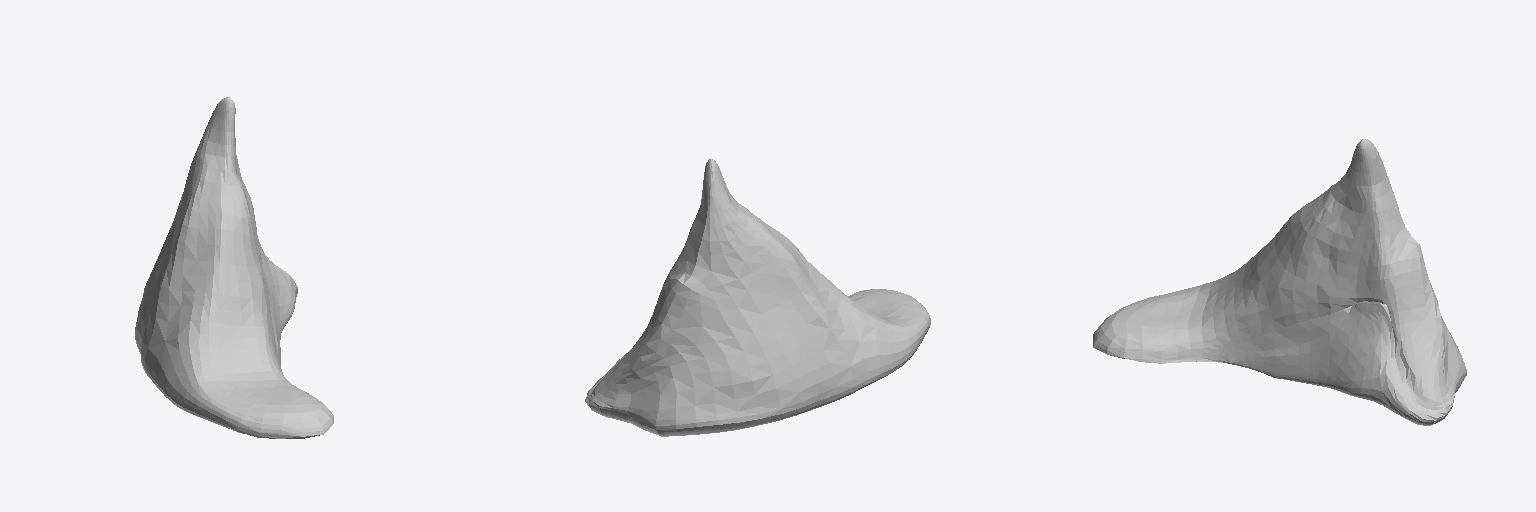
File: mountain2.OBJ
3 renders of one model, left to right at view 1: azimuth 30°, elevation 25°; view 2: azimuth 150°, elevation 25°; view 3: azimuth 270°, elevation 25°, orthographic.
Parts seen in each view (by area): view 1: Group3; view 2: Group3; view 3: Group3.
Boxes of the visible parts, x1=… form: Group3: x1=135, y1=97, x2=333, y2=438; Group3: x1=585, y1=159, x2=930, y2=436; Group3: x1=1093, y1=139, x2=1466, y2=425.
Bounding box in the file's own units: 2.99 × 3.26 × 4.45.